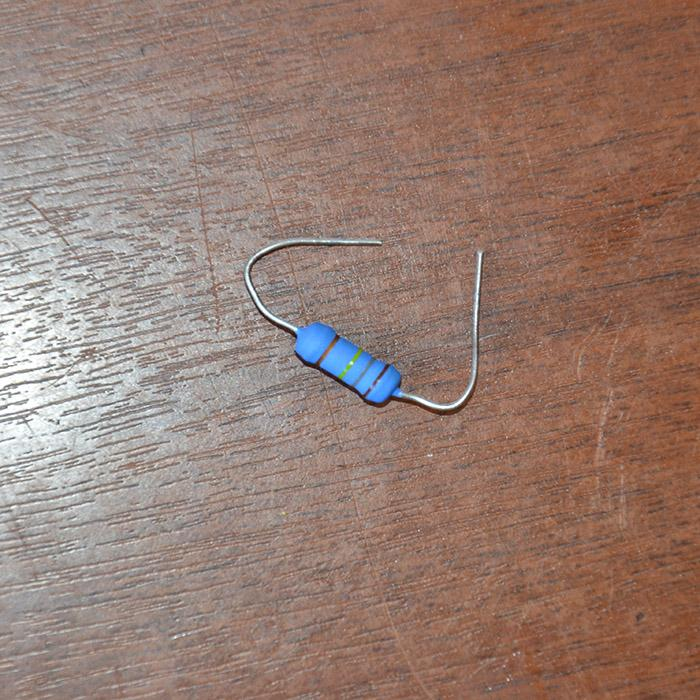resistor: (295, 321, 402, 406)
